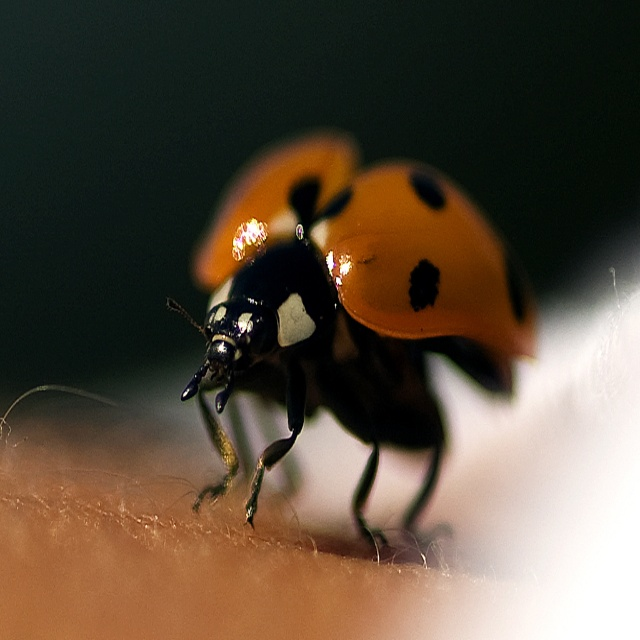Ladybug: (168, 137, 540, 554)
